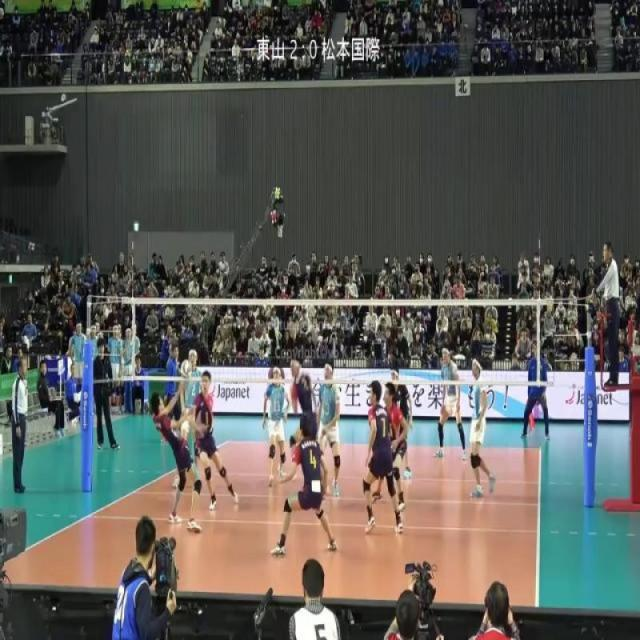volleyball: (180, 358, 192, 379)
